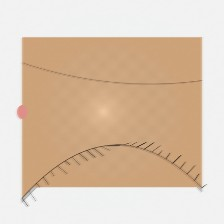hemorrhage_spot: (80, 65, 158, 127)
